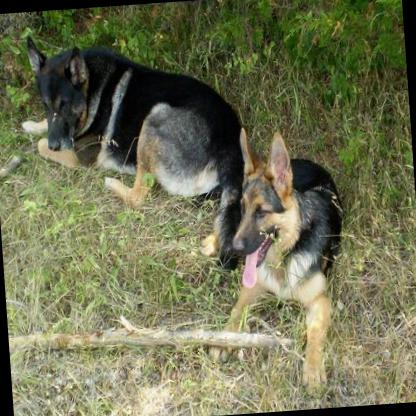German_shepherd: (192, 118, 354, 396)
